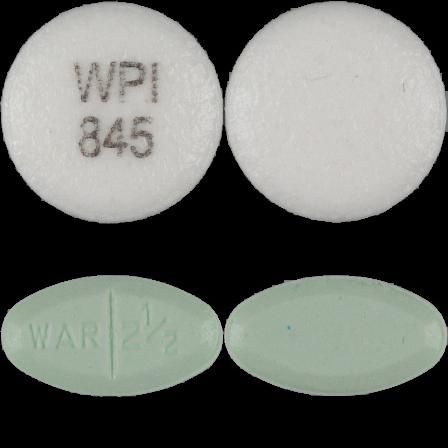63629-3158: (0, 0, 224, 224)
